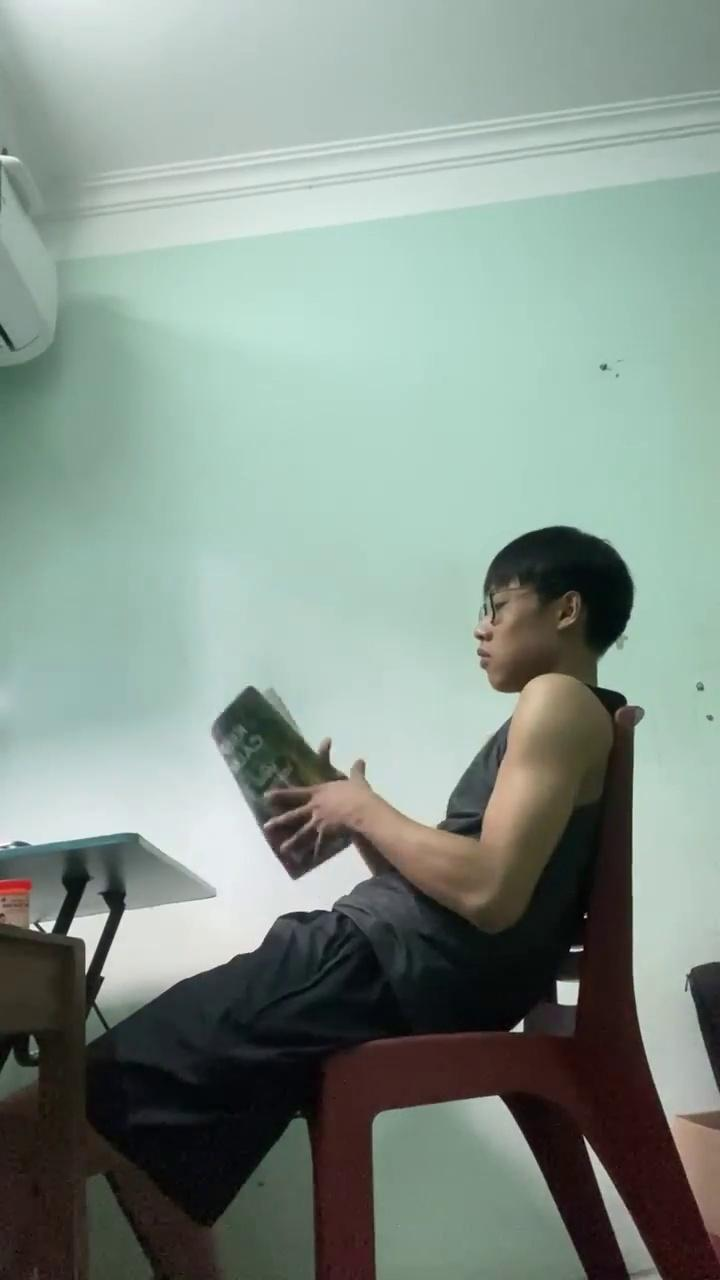BadPosture: (3, 534, 638, 1272), (268, 526, 633, 1033)
